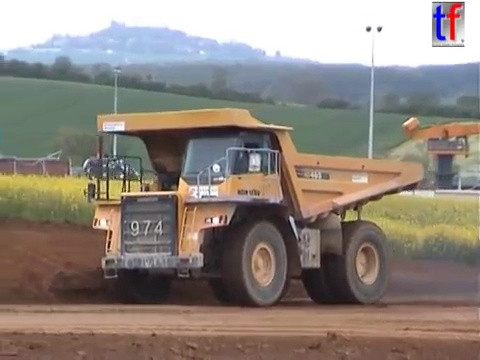excavator: (401, 115, 480, 196)
truck: (78, 105, 426, 309)
